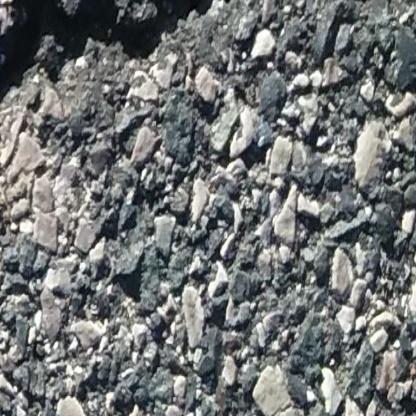Cracks: (0, 0, 276, 136)
